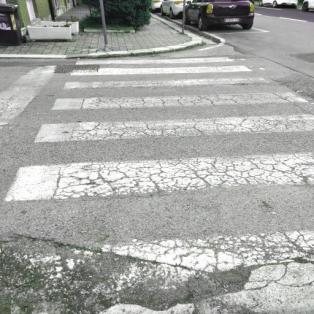Paso de Cebra: (2, 112, 314, 210), (59, 64, 272, 94)
